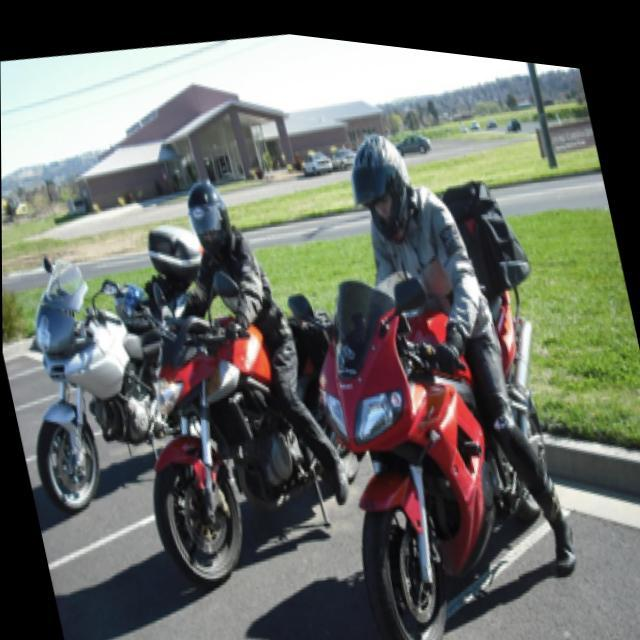Helmet: (340, 123, 432, 244), (182, 174, 243, 265)
